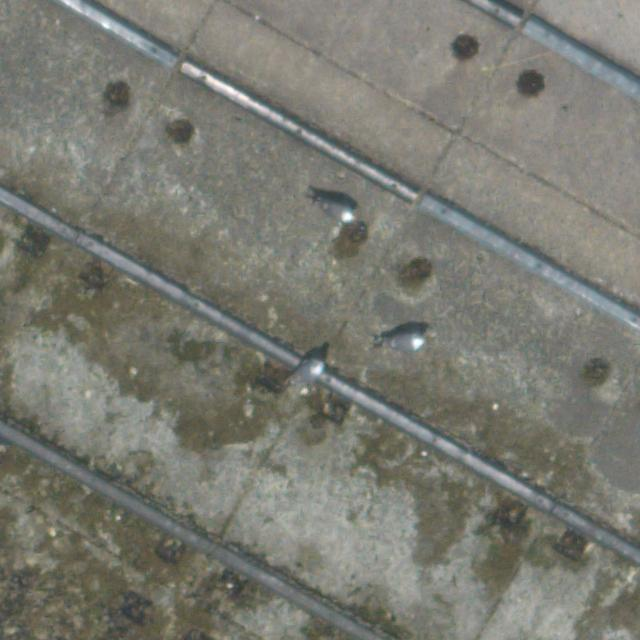umineko: (288, 362, 324, 382), (386, 334, 424, 352), (321, 200, 353, 221)
